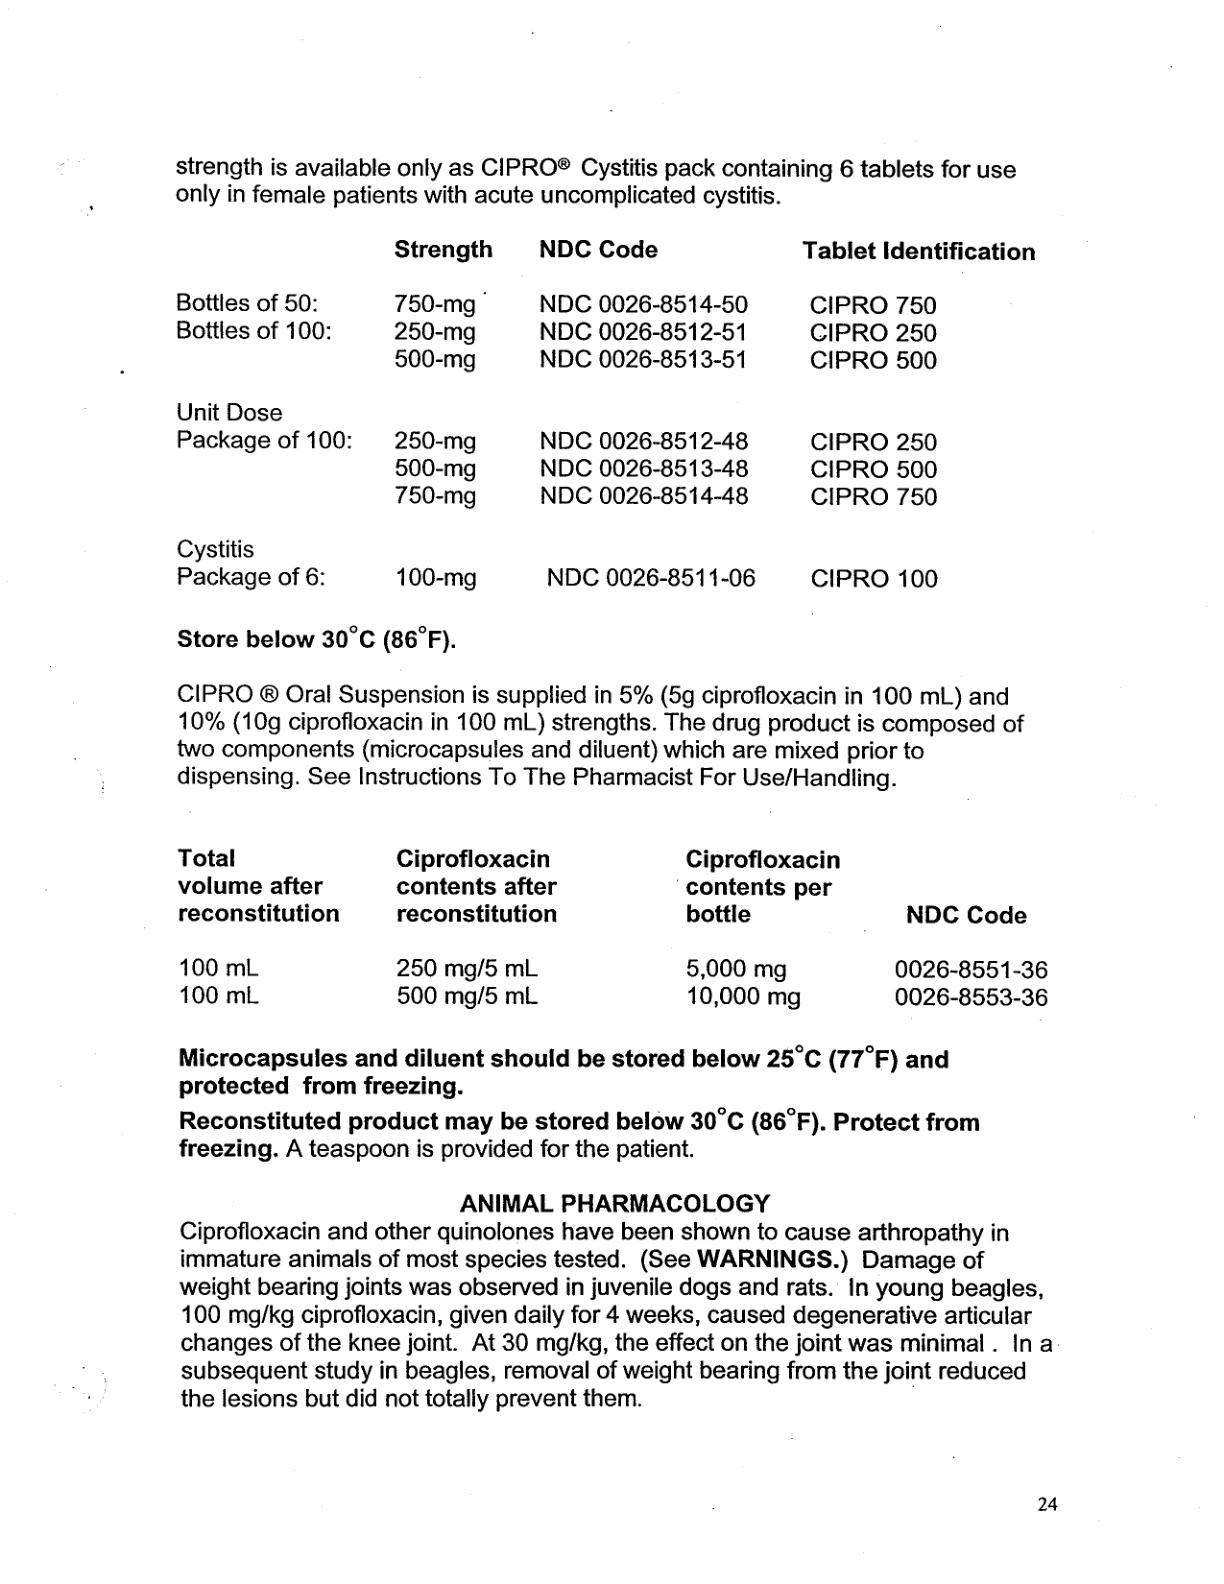nolines: (170, 234, 1041, 593), (167, 841, 1052, 1018)
